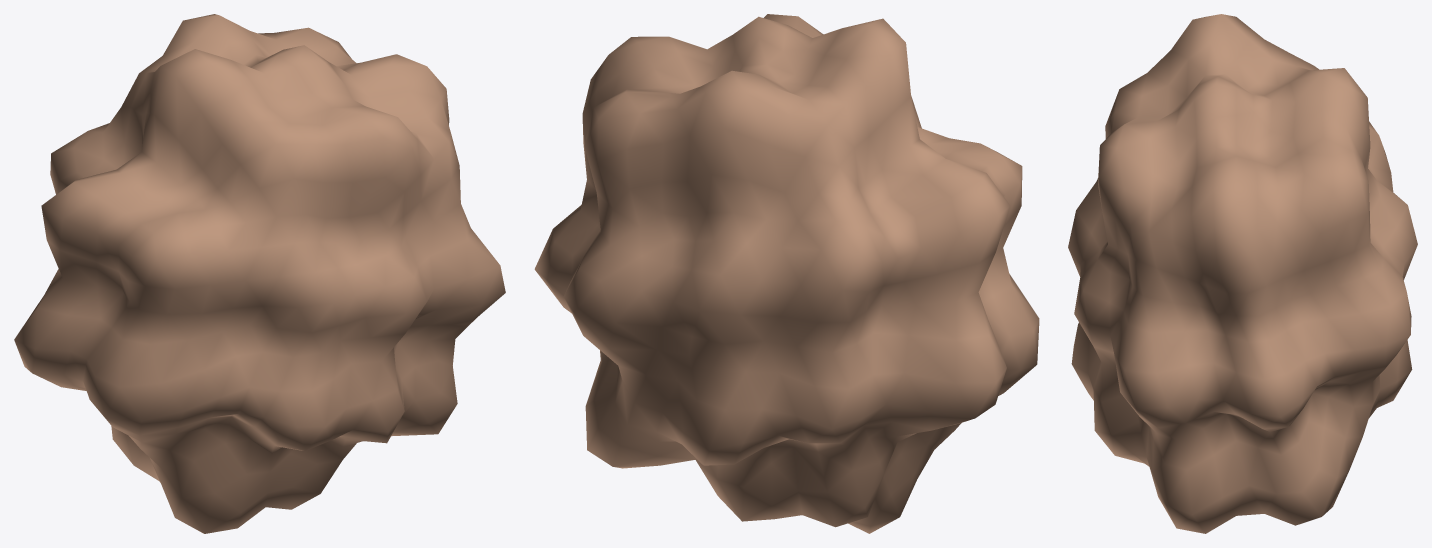
The model's file is sandstone_2.glb.
3 views of the same model, side by side, from view 1: azimuth 30°, elevation 25°; view 2: azimuth 150°, elevation 25°; view 3: azimuth 270°, elevation 25° (orthographic). The views are drawn at different scales.
Visible parts, largest first — view 1: Eroded sandstone 2; view 2: Eroded sandstone 2; view 3: Eroded sandstone 2.
Boxes of the visible parts, <box> form: Eroded sandstone 2: <box>14,14,505,533</box>; Eroded sandstone 2: <box>534,14,1039,533</box>; Eroded sandstone 2: <box>1068,14,1417,533</box>.
Bounding box in the file's own units: 2.75 × 2.92 × 1.97.
